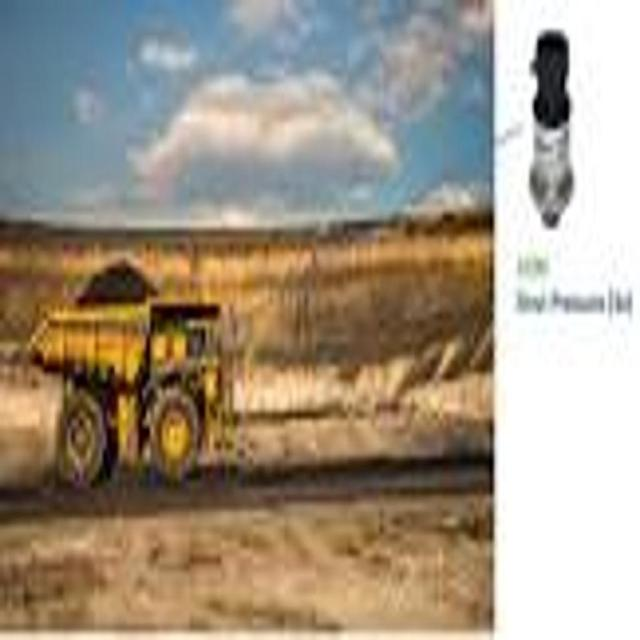dump_truck: (26, 251, 232, 495)
